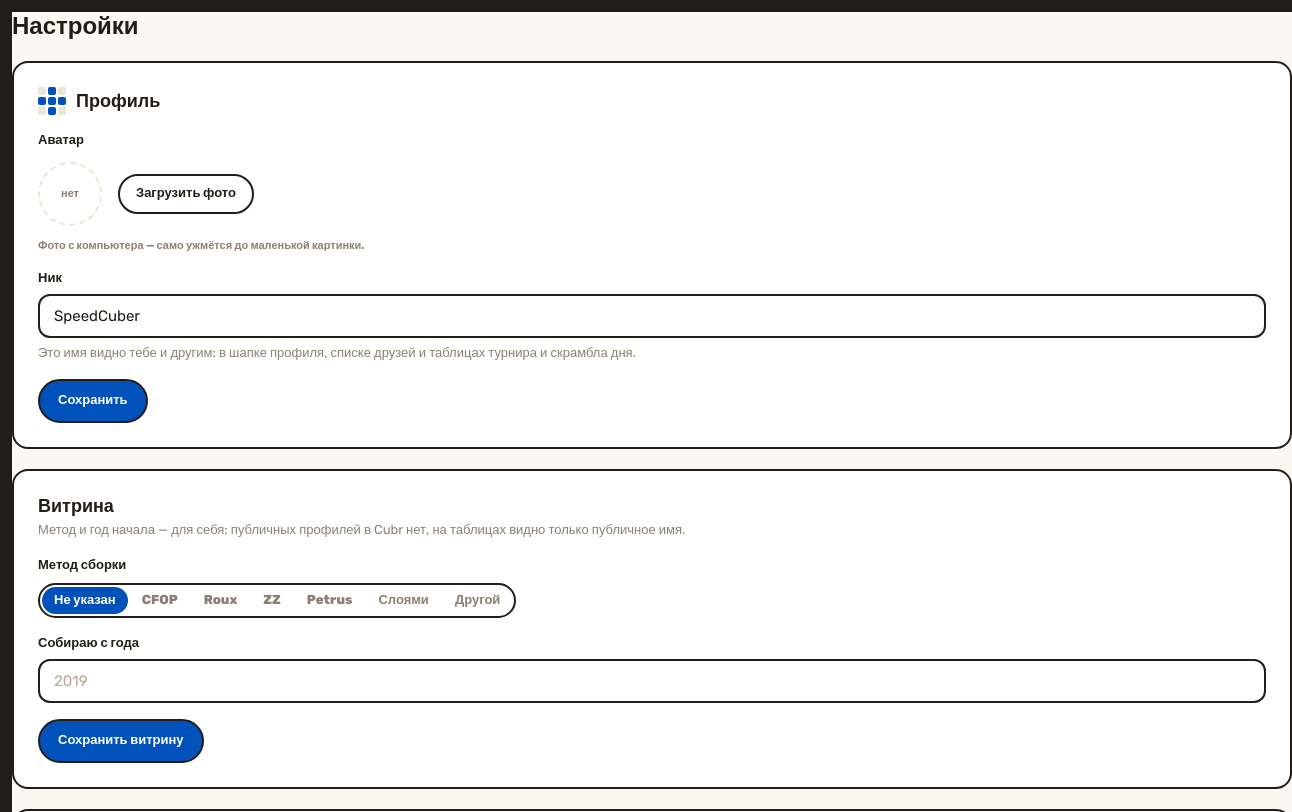
Test: SettingsPage — handle + avatar › если набрать «@ник» вручную, ведущая собака молча срезается
This screenshot has width=1292, height=812.
Replace the text in the field labelled "Ник" with "@NewHandle" at (652, 316), box [38,294,1266,338]
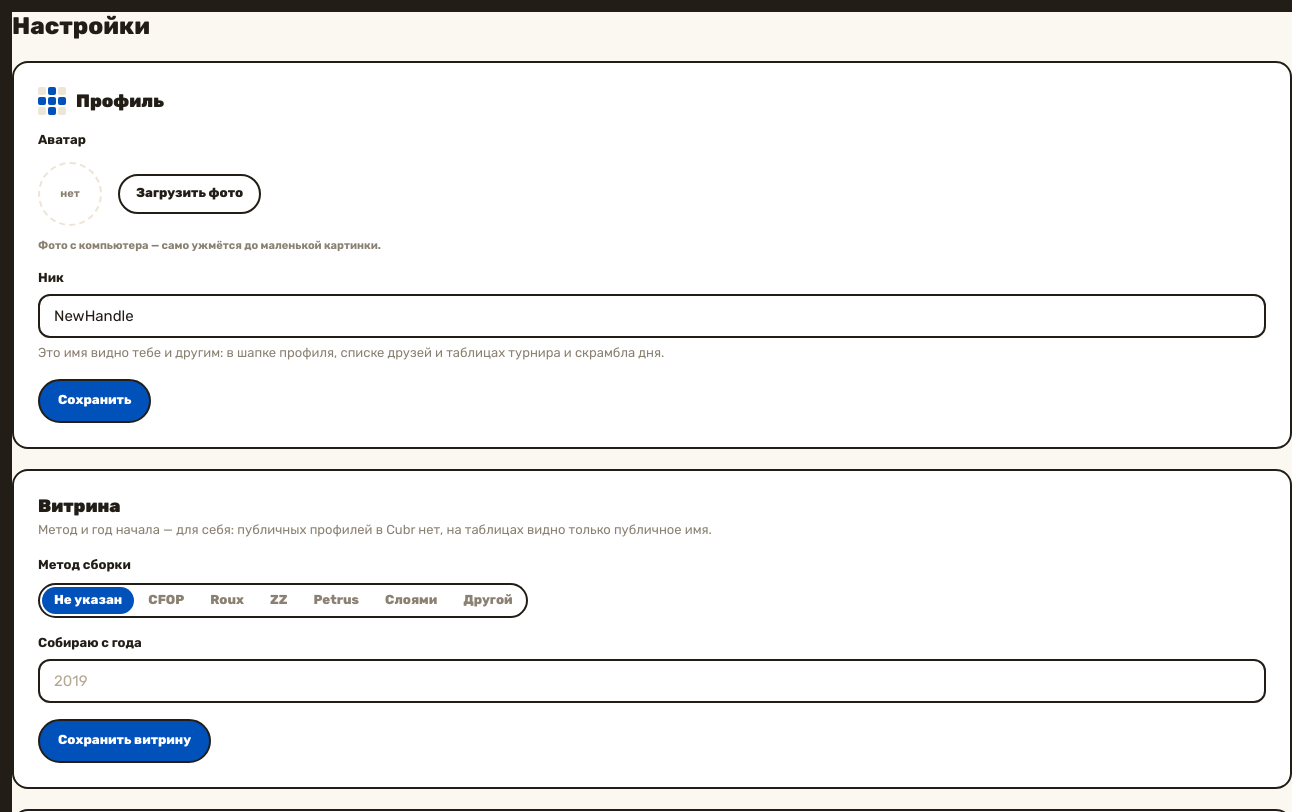
Check: the field labelled "Ник" holds "NewHandle", box [38,294,1266,338]
